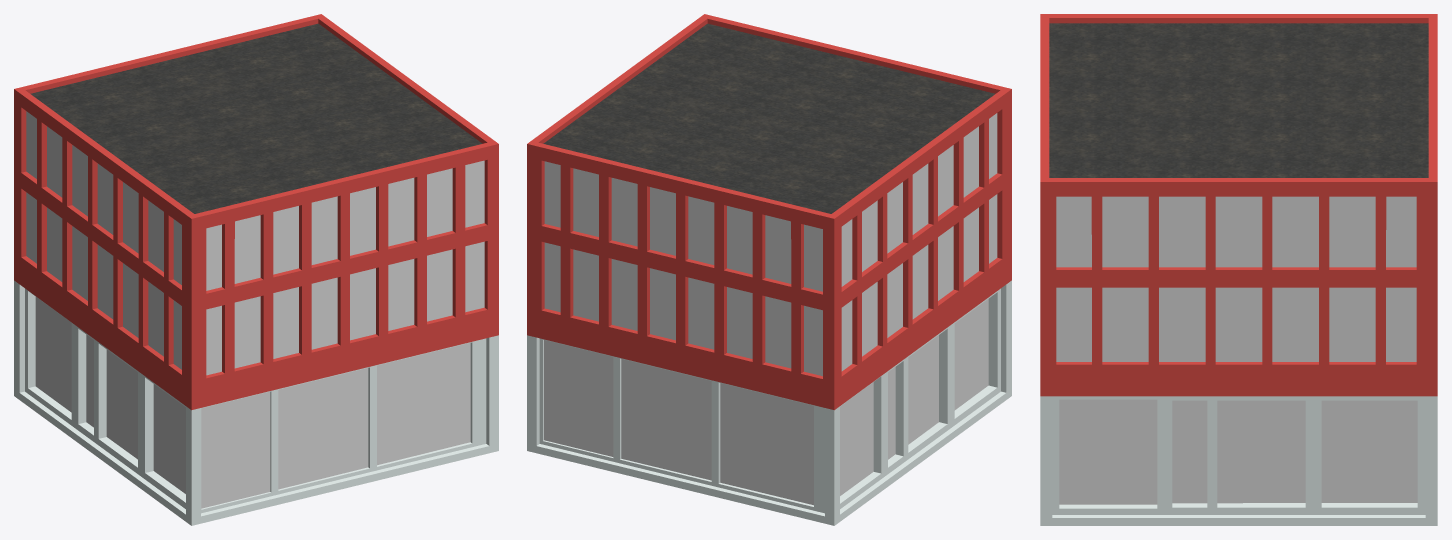
The model's file is Rmutr Architecture.glb.
3 renders of one model, left to right at view 1: azimuth 30°, elevation 25°; view 2: azimuth 150°, elevation 25°; view 3: azimuth 270°, elevation 25°, orthographic. The views are drawn at different scales.
Parts seen in each view (by area): view 1: Object_5, Object_2, Object_4, Object_3; view 2: Object_5, Object_2, Object_4, Object_3; view 3: Object_5, Object_4, Object_2, Object_3.
Boxes of the visible parts, x1,y1,x2,y2 form: Object_5: (26, 111, 484, 508); Object_2: (14, 14, 498, 410); Object_4: (30, 23, 482, 213); Object_3: (14, 280, 498, 525); Object_5: (544, 113, 997, 505); Object_2: (527, 14, 1011, 410); Object_4: (543, 23, 995, 213); Object_3: (527, 280, 1011, 525); Object_5: (1056, 196, 1417, 504); Object_4: (1049, 23, 1428, 177); Object_2: (1040, 14, 1437, 396); Object_3: (1040, 396, 1437, 525).
Size of the model in its own units: 17.42 by 16.63 by 17.42.
4 materials, 1 textured.
